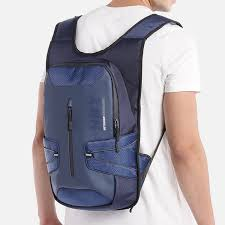backpack: (42, 12, 183, 211)
